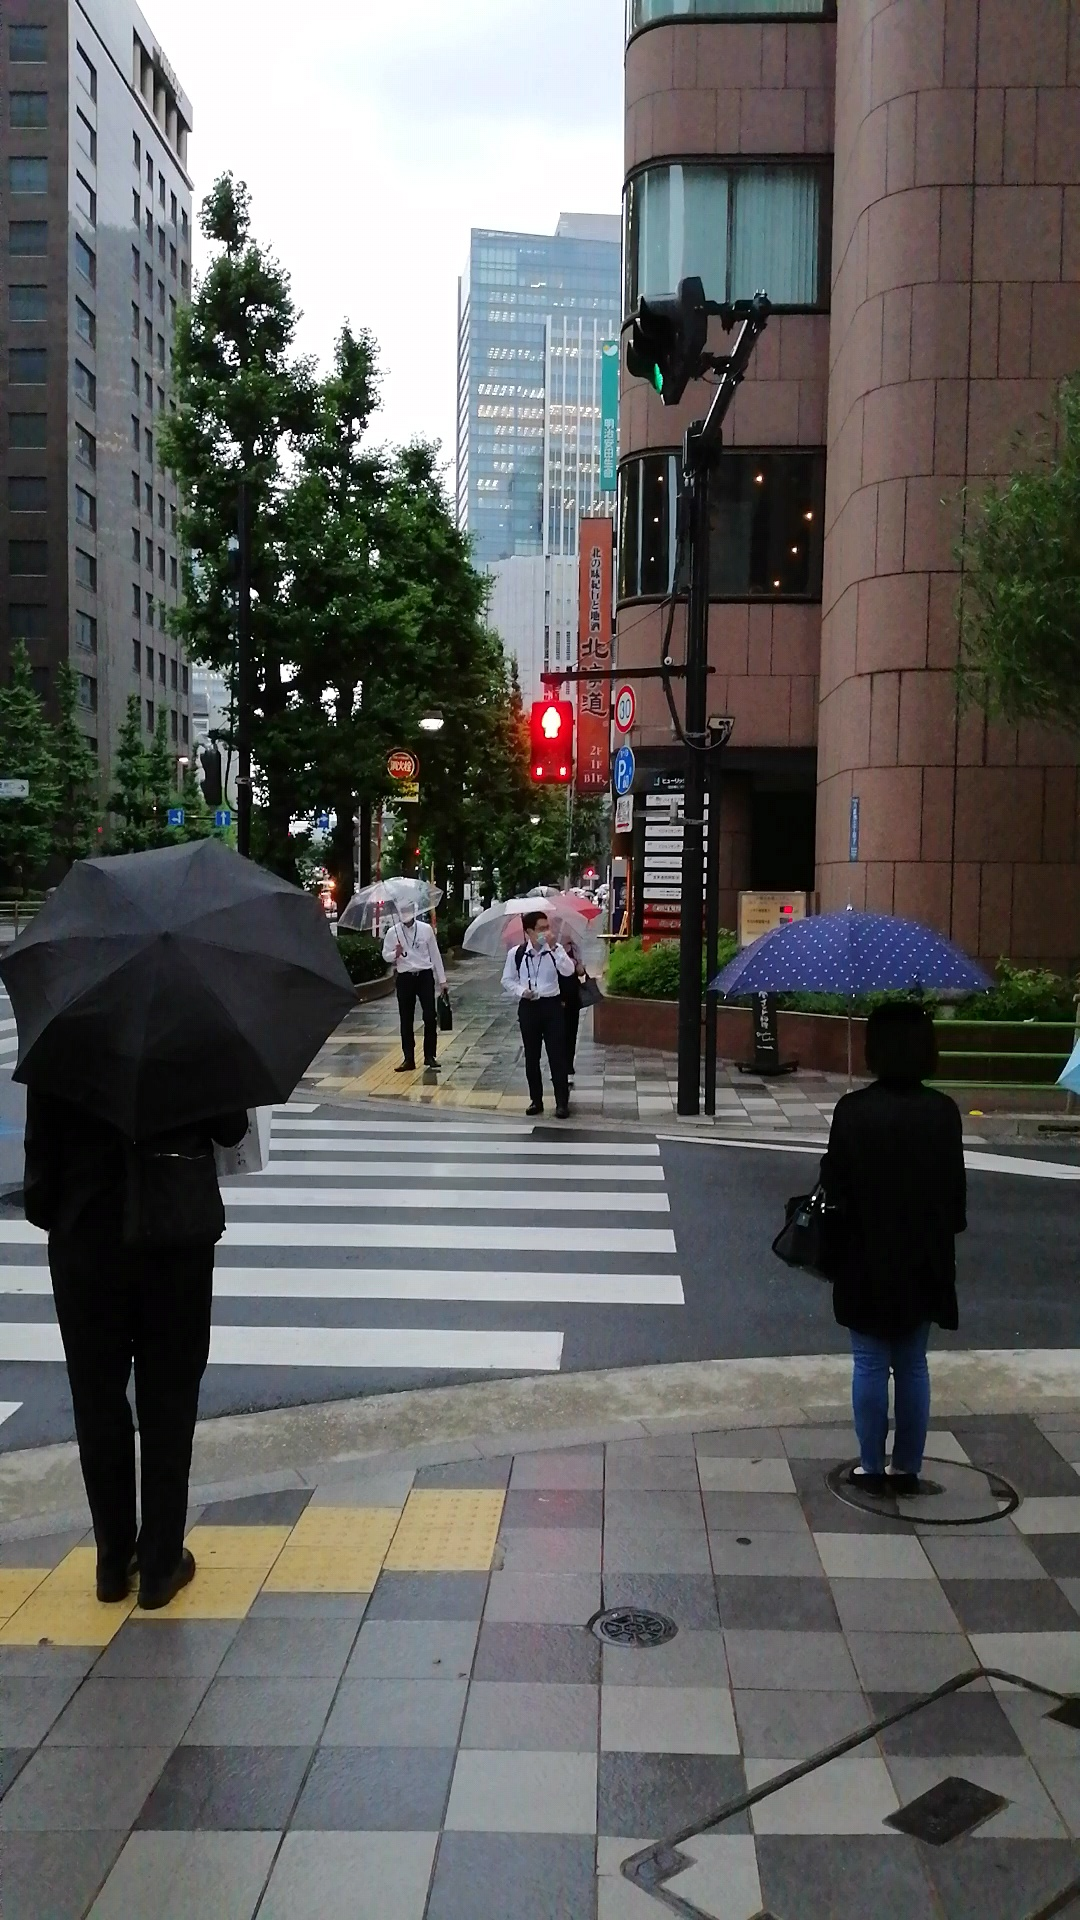red: (526, 698, 574, 787)
